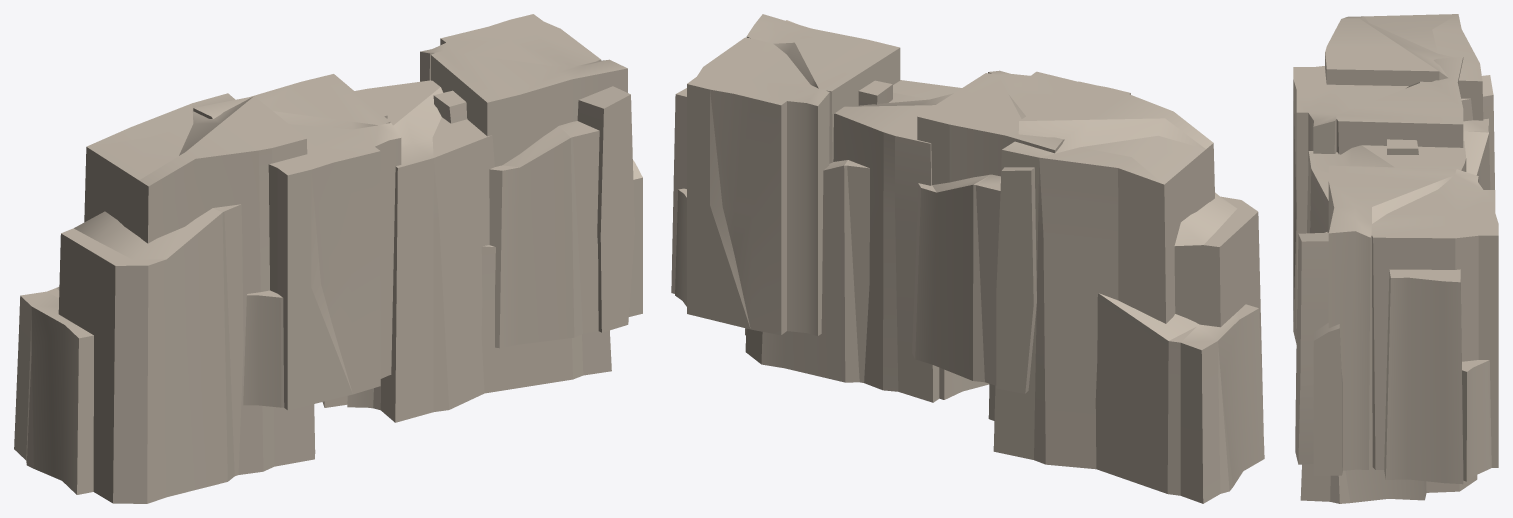
Rendered from Rockwall_B.fbx.
3 renders of one model, left to right at view 1: azimuth 30°, elevation 25°; view 2: azimuth 150°, elevation 25°; view 3: azimuth 270°, elevation 25°, orthographic. The views are drawn at different scales.
Visible parts, largest first — view 1: pCube111; view 2: pCube111; view 3: pCube111.
Part boxes in pixels (<box>): pCube111: <box>14,14,642,503</box>; pCube111: <box>671,14,1264,503</box>; pCube111: <box>1293,14,1498,503</box>.
Size of the model in its own units: 2656 by 1438 by 847.
